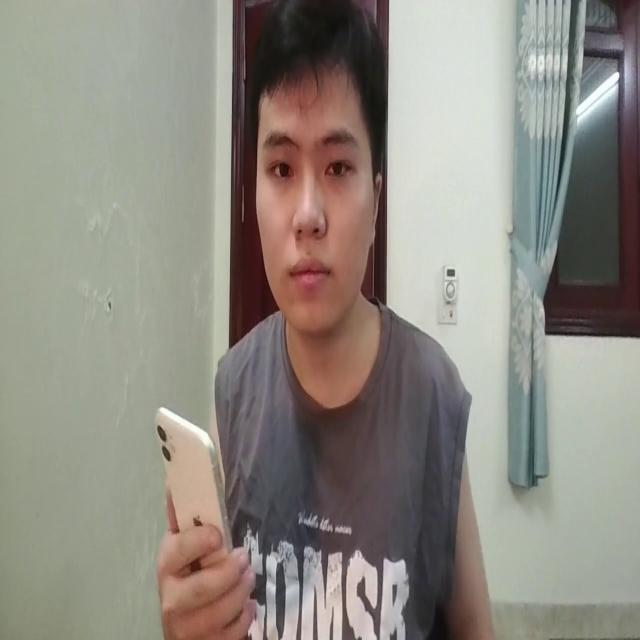phone: (154, 399, 236, 581)
student: (151, 0, 493, 640)
